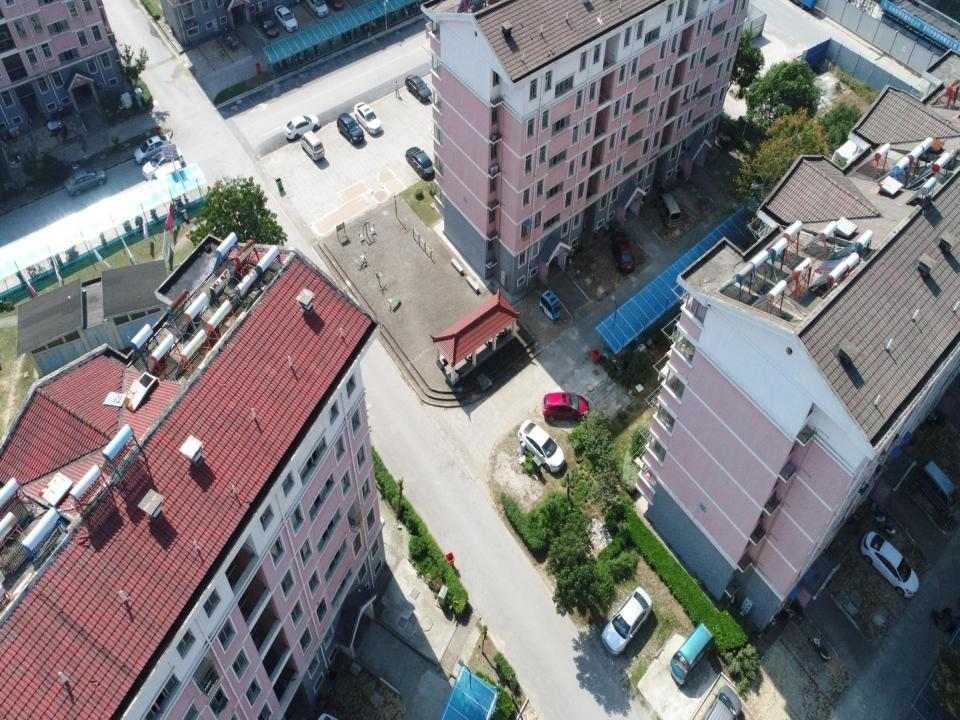car: (860, 531, 920, 599), (602, 586, 653, 657), (518, 417, 564, 472), (542, 392, 590, 422), (700, 686, 742, 720), (142, 148, 184, 180), (64, 166, 107, 196), (133, 135, 172, 164), (609, 229, 635, 272), (405, 146, 435, 178), (354, 101, 382, 135), (336, 112, 364, 145), (405, 73, 432, 105), (285, 115, 320, 139), (274, 6, 298, 34), (256, 12, 279, 40), (307, 0, 329, 17)
van: (669, 623, 715, 685), (912, 459, 960, 517), (654, 191, 682, 229), (300, 130, 325, 161)
